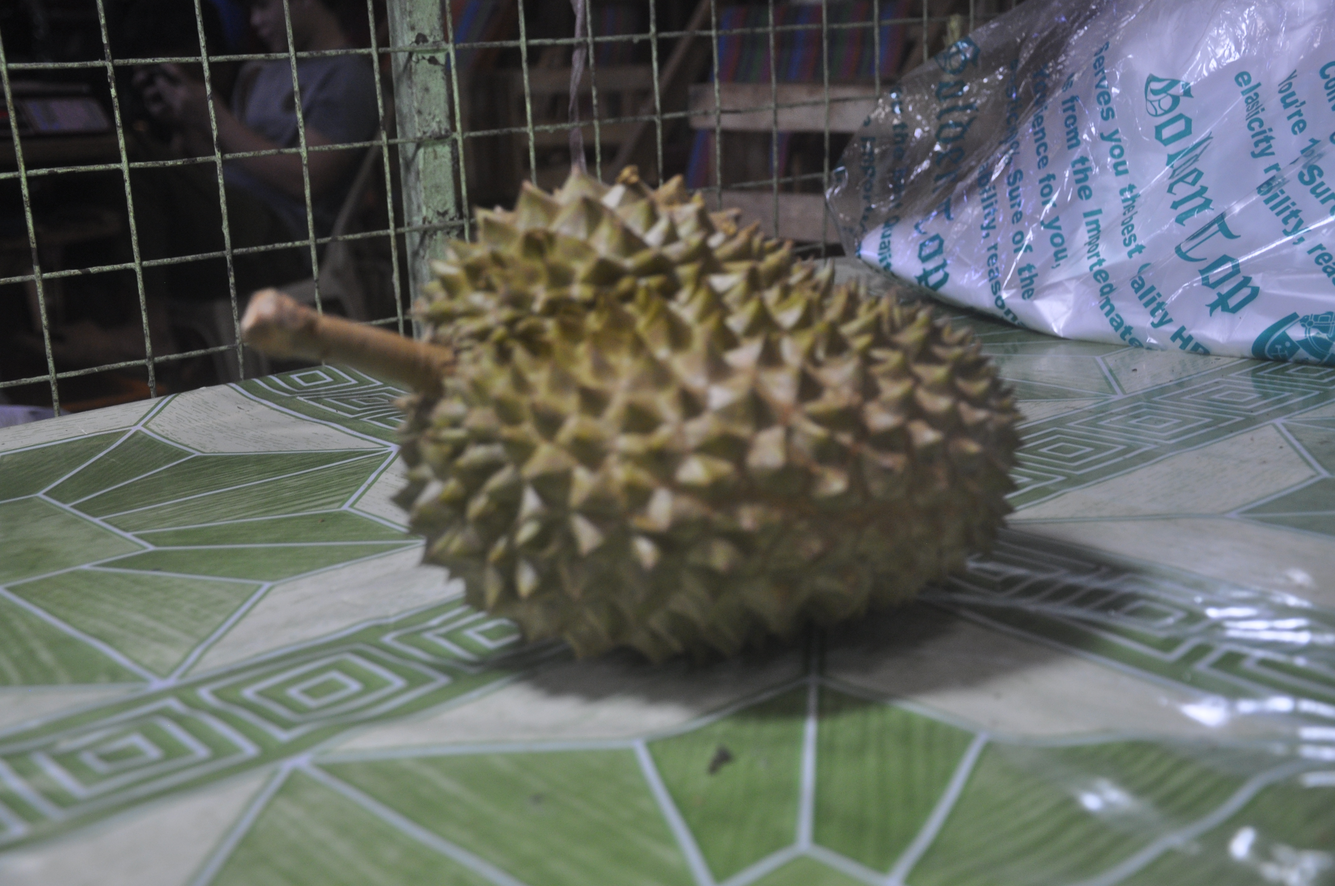mature: (243, 169, 1017, 660)
